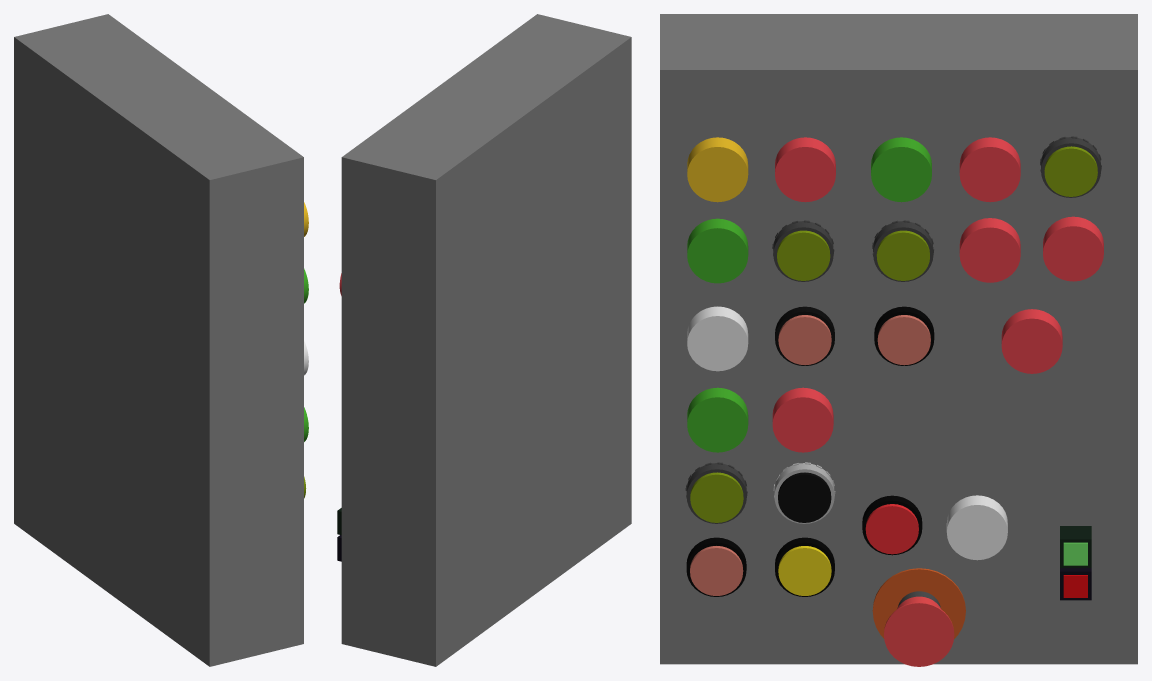
Rendered from CONTROLER.fbx.
3 renders of one model, left to right at view 1: azimuth 30°, elevation 25°; view 2: azimuth 150°, elevation 25°; view 3: azimuth 270°, elevation 25°, orthographic. The views are drawn at different scales.
Visible parts, largest first — view 1: Cube; view 2: Cube; view 3: Cube, Цилиндр.022, Цилиндр.019, Цилиндр.013, Цилиндр.003, Цилиндр.007, Цилиндр.006, Цилиндр.014, Цилиндр.015, Цилиндр, Цилиндр.005, Цилиндр.021 (+15 smaller).
Part boxes in pixels (x1,y1,x2,y2): Cube: [14, 14, 303, 666]; Cube: [341, 14, 631, 666]; Cube: [660, 14, 1137, 664]; Цилиндр.022: [884, 596, 954, 666]; Цилиндр.019: [872, 568, 965, 638]; Цилиндр.013: [687, 306, 748, 371]; Цилиндр.003: [959, 137, 1020, 202]; Цилиндр.007: [1001, 309, 1062, 373]; Цилиндр.006: [687, 218, 748, 283]; Цилиндр.014: [687, 387, 748, 452]; Цилиндр.015: [772, 387, 833, 452]; Цилиндр: [687, 137, 748, 202]; Цилиндр.005: [959, 218, 1020, 282]; Цилиндр.021: [946, 495, 1007, 560].
Size of the model in its own units: 178 by 595 by 434.
